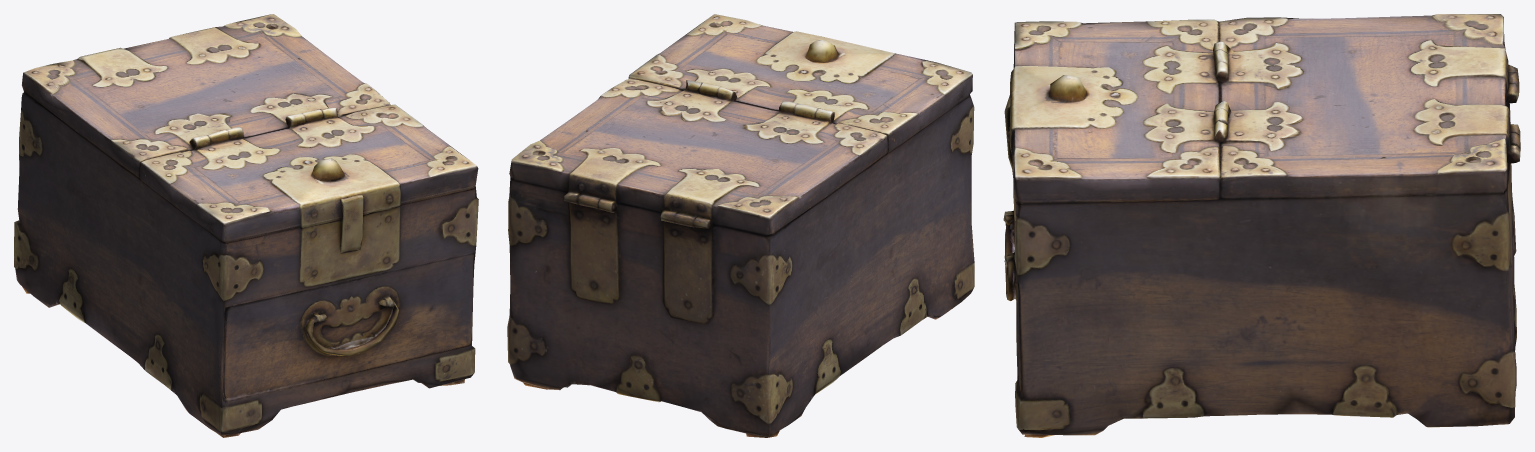
The model's file is SM_Mirror_Stand_Box.fbx.
The picture shows the model from 3 angles, left to right: view 1: azimuth 30°, elevation 25°; view 2: azimuth 150°, elevation 25°; view 3: azimuth 270°, elevation 25°; orthographic projection. The views are drawn at different scales.
Parts seen in each view (by area): view 1: KCDF_2022_prop_Mirror_Stand_Comb_Box_Mesh; view 2: KCDF_2022_prop_Mirror_Stand_Comb_Box_Mesh; view 3: KCDF_2022_prop_Mirror_Stand_Comb_Box_Mesh.
Part boxes in pixels (<box>): KCDF_2022_prop_Mirror_Stand_Comb_Box_Mesh: <box>14,14,478,437</box>; KCDF_2022_prop_Mirror_Stand_Comb_Box_Mesh: <box>507,14,974,437</box>; KCDF_2022_prop_Mirror_Stand_Comb_Box_Mesh: <box>1003,14,1520,437</box>.
Bounding box in the file's own units: 25.79 × 22.46 × 36.09.
Materials: 1 (1 with a texture image).
